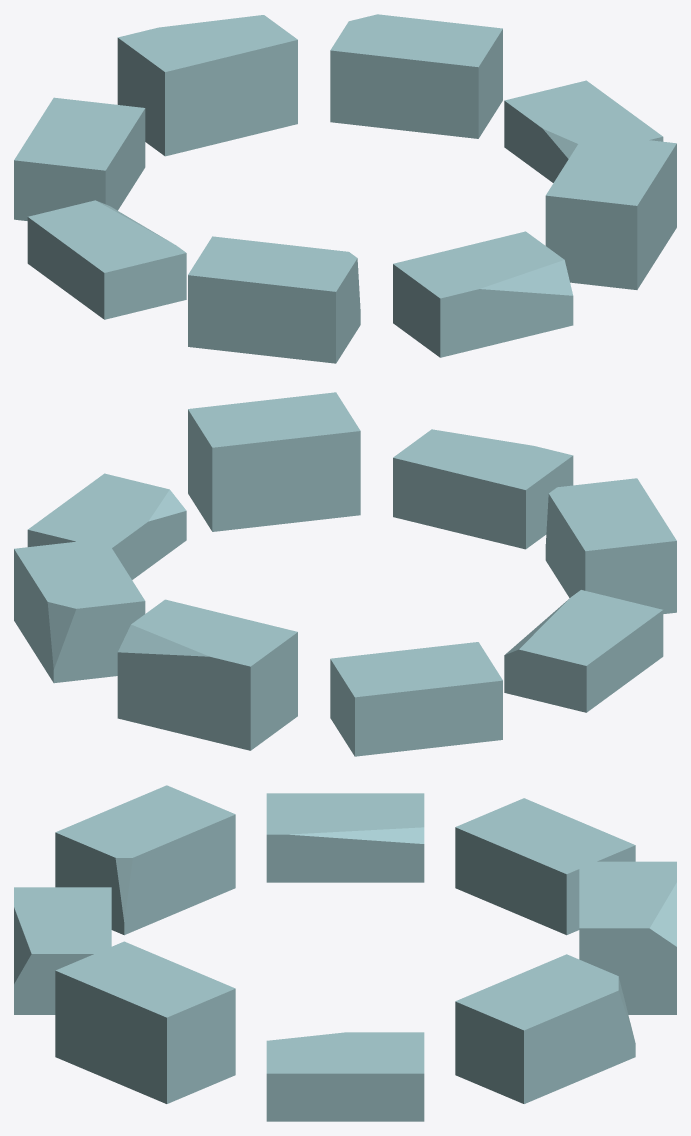
The model's file is campfireStones_blocks.fbx.
3 renders of one model, top to bottom at view 1: azimuth 30°, elevation 25°; view 2: azimuth 150°, elevation 25°; view 3: azimuth 270°, elevation 25°, orthographic. The views are drawn at different scales.
Parts seen in each view (by area): view 1: campfireStones_blocks; view 2: campfireStones_blocks; view 3: campfireStones_blocks.
Part boxes in pixels (x1,y1,x2,y2): campfireStones_blocks: [14, 14, 676, 363]; campfireStones_blocks: [14, 392, 676, 756]; campfireStones_blocks: [14, 785, 676, 1121].
Bounding box in the file's own units: 4.69 × 0.676 × 4.69.
